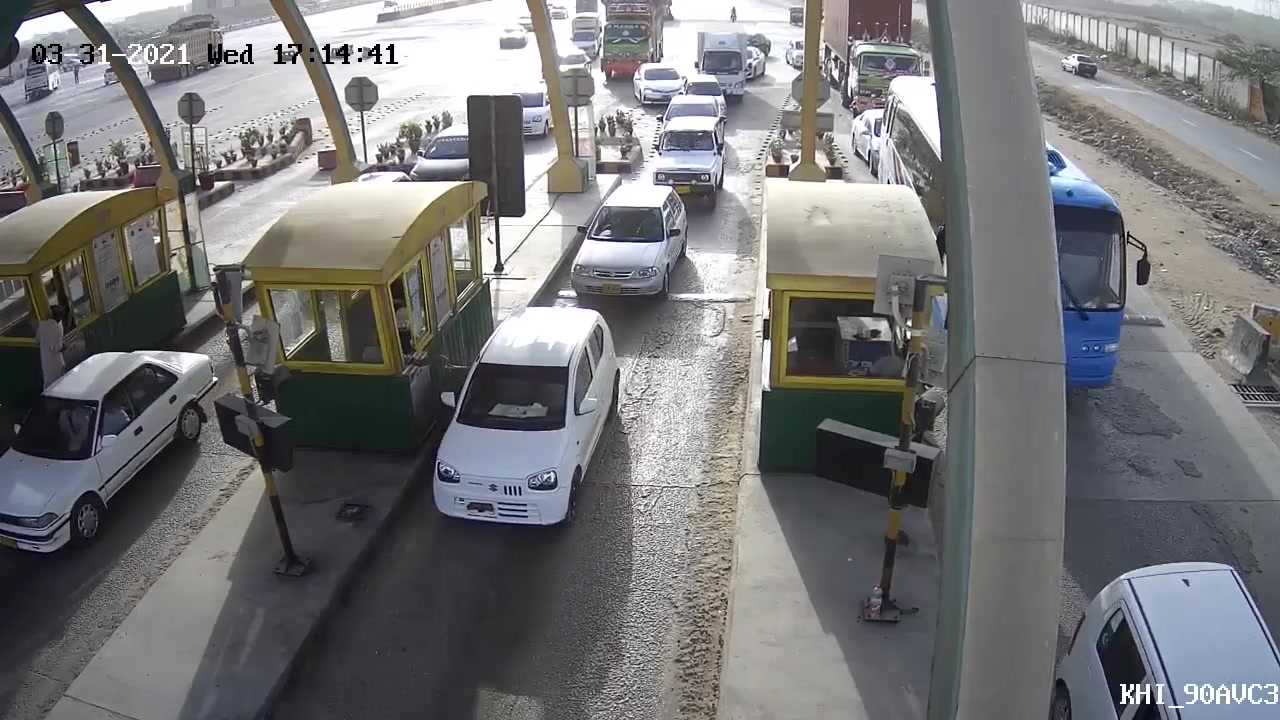F1: (416, 296, 625, 537), (574, 180, 687, 305), (649, 120, 732, 205)
